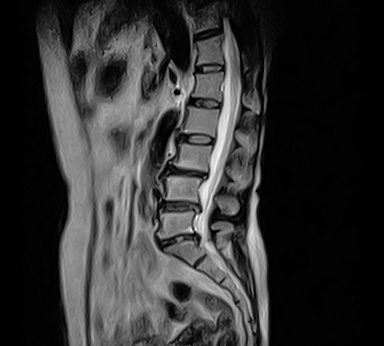L1,v2: (187, 71, 228, 94)
L1-L2,v1: (184, 91, 225, 114)
L2,v2: (183, 107, 224, 130)
L2-L3,v1: (179, 127, 220, 150)
L3,v2: (175, 142, 216, 165)
L3-L4,v3: (171, 161, 212, 184)
L4,v2: (163, 175, 204, 198)
L4-L5,v4: (161, 193, 202, 216)
L5,v2: (158, 209, 199, 232)
L5-S1,v3: (157, 227, 198, 250)
T12-L1,v1: (188, 57, 229, 80)
